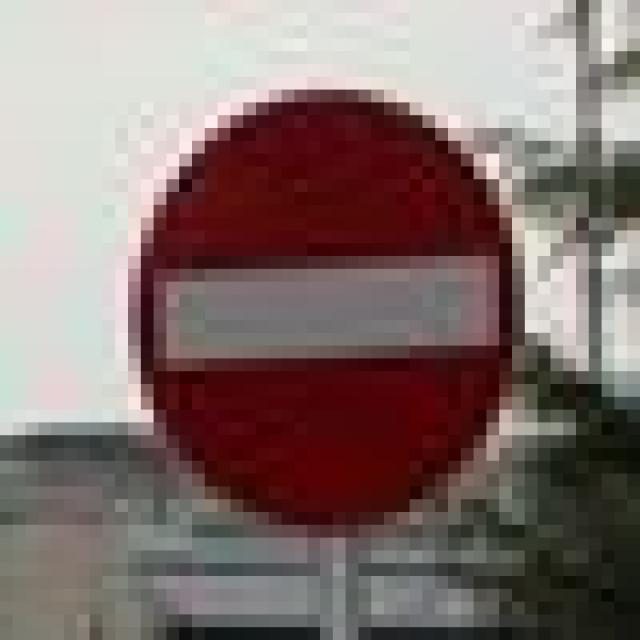NO_ENTRY: (115, 77, 512, 512)
